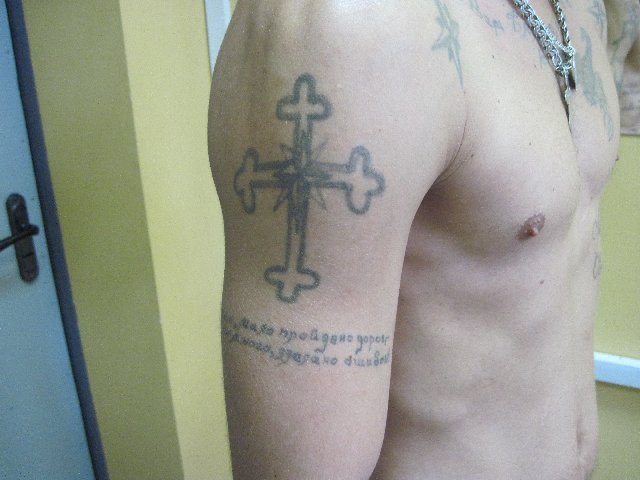tatu4_zvezda: (275, 133, 342, 209)
tatu9_krest: (232, 65, 383, 301)
